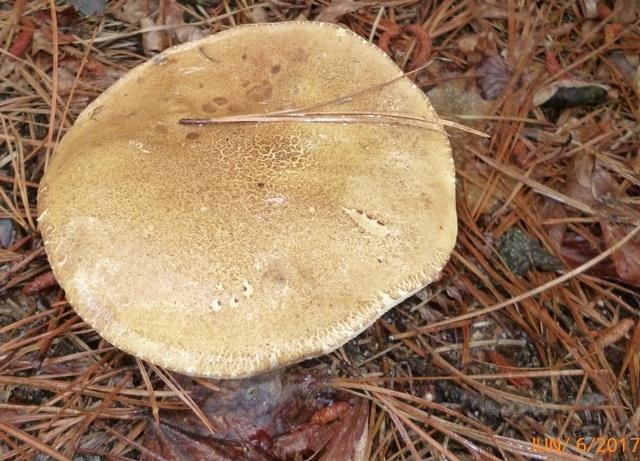Non-edible Mushroom: (34, 18, 460, 385)
